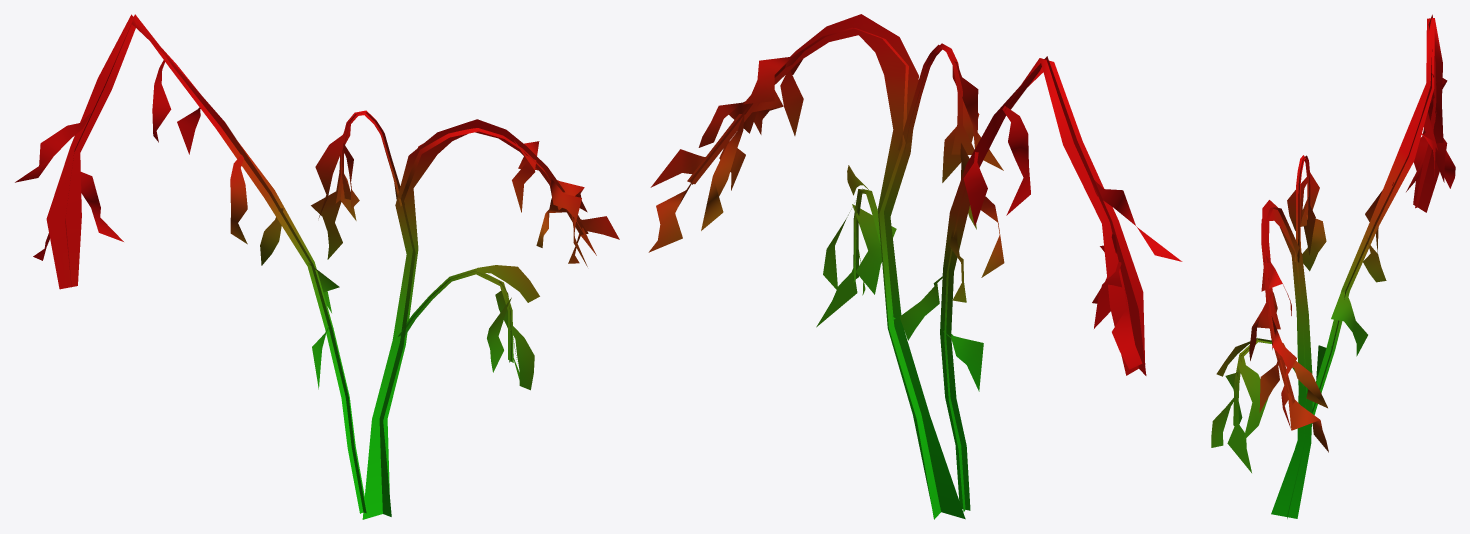
File: Var6_LOD0.fbx
3 views of the same model, side by side, from view 1: azimuth 30°, elevation 25°; view 2: azimuth 150°, elevation 25°; view 3: azimuth 270°, elevation 25° (orthographic). The views are drawn at different scales.
Visible parts, largest first — view 1: _e51a_Var6_LOD0; view 2: _e51a_Var6_LOD0; view 3: _e51a_Var6_LOD0.
Boxes of the visible parts, x1,y1,x2,y2 form: _e51a_Var6_LOD0: [15, 14, 619, 519]; _e51a_Var6_LOD0: [648, 14, 1182, 519]; _e51a_Var6_LOD0: [1211, 14, 1455, 518].
Size of the model in its own units: 20.92 by 18.42 by 9.46.
